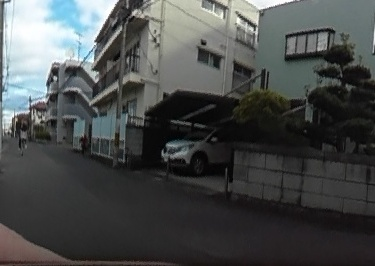person: (16, 120, 28, 148)
